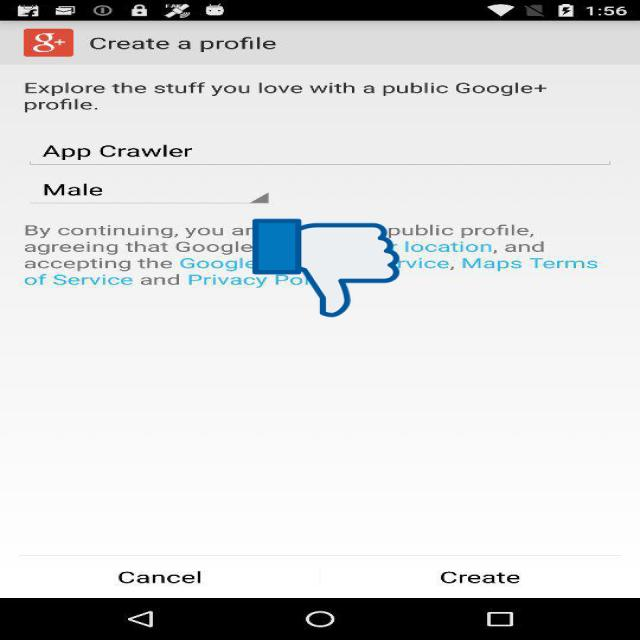obstruction: (252, 217, 400, 319)
